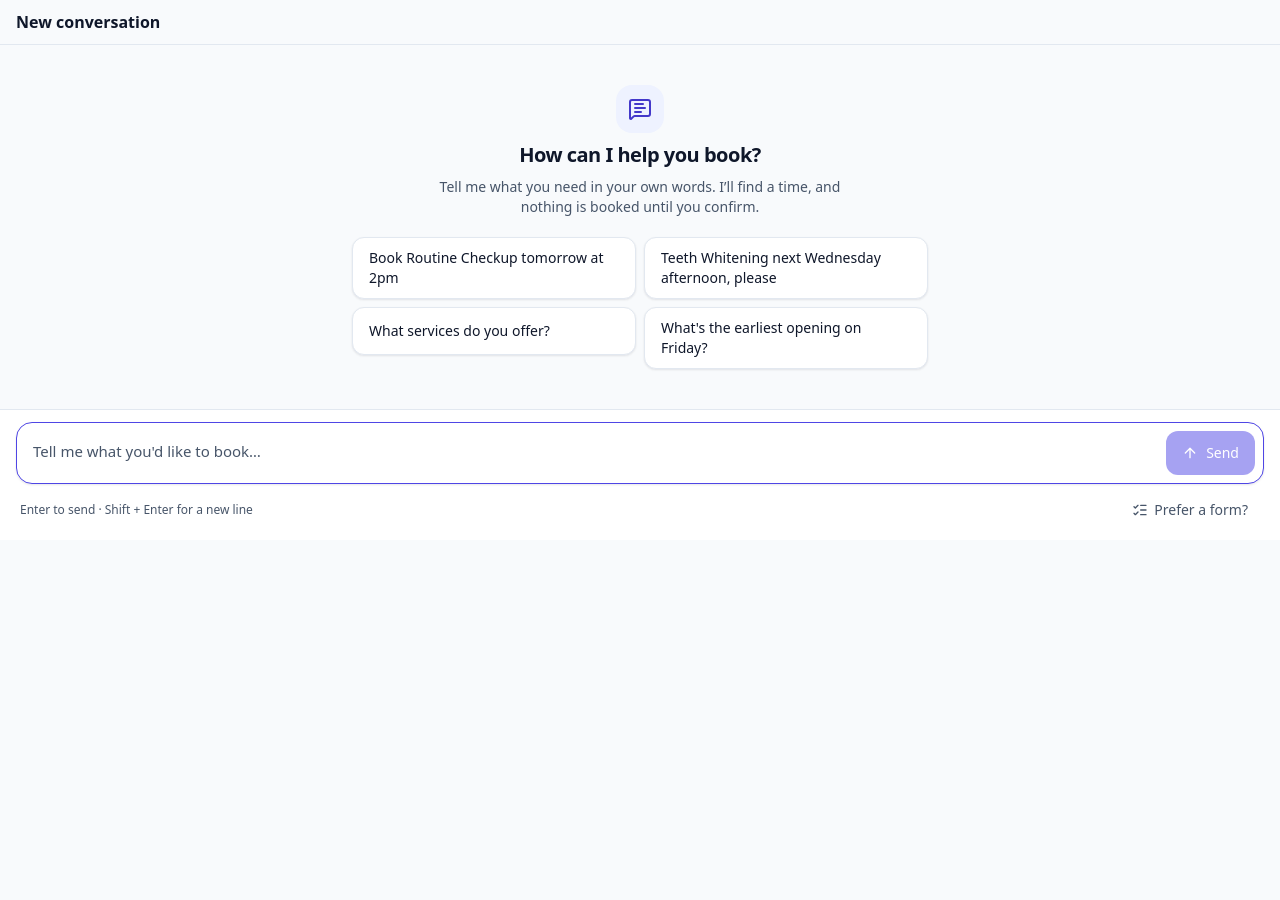
Test: the form in a brand-new conversation (real controller) › keeps the form, with the field error, when the server rejects a field
Click the button "Prefer a form?": point(1190, 510) [1120, 492, 1260, 528]
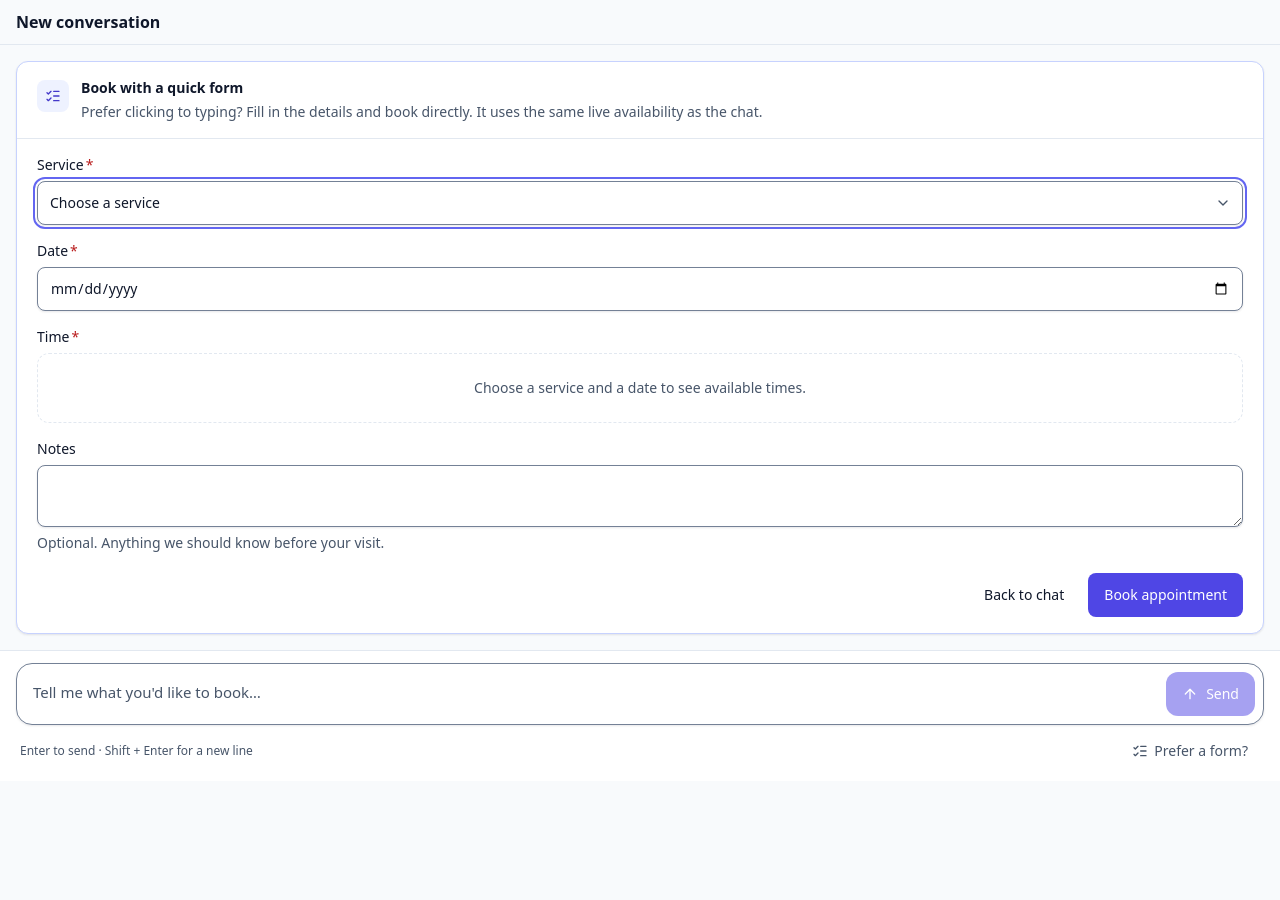
Select "Routine Checkup · 30 min · $80" in the dropdown labelled "Service*": point(640, 203) [37, 181, 1243, 225]
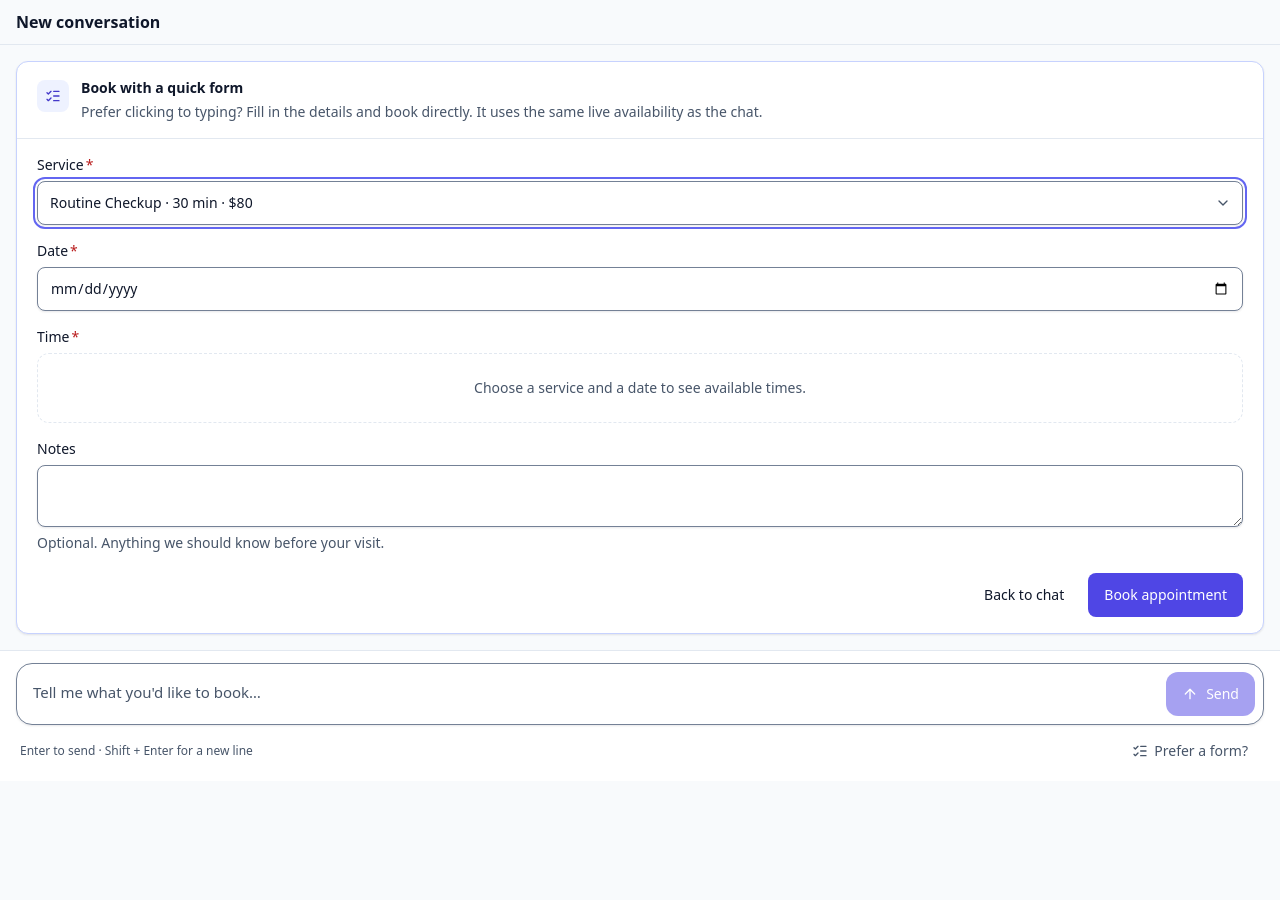
In the date field labelled "Date*": point(640, 289) [37, 267, 1243, 311], type "2026-10-05"
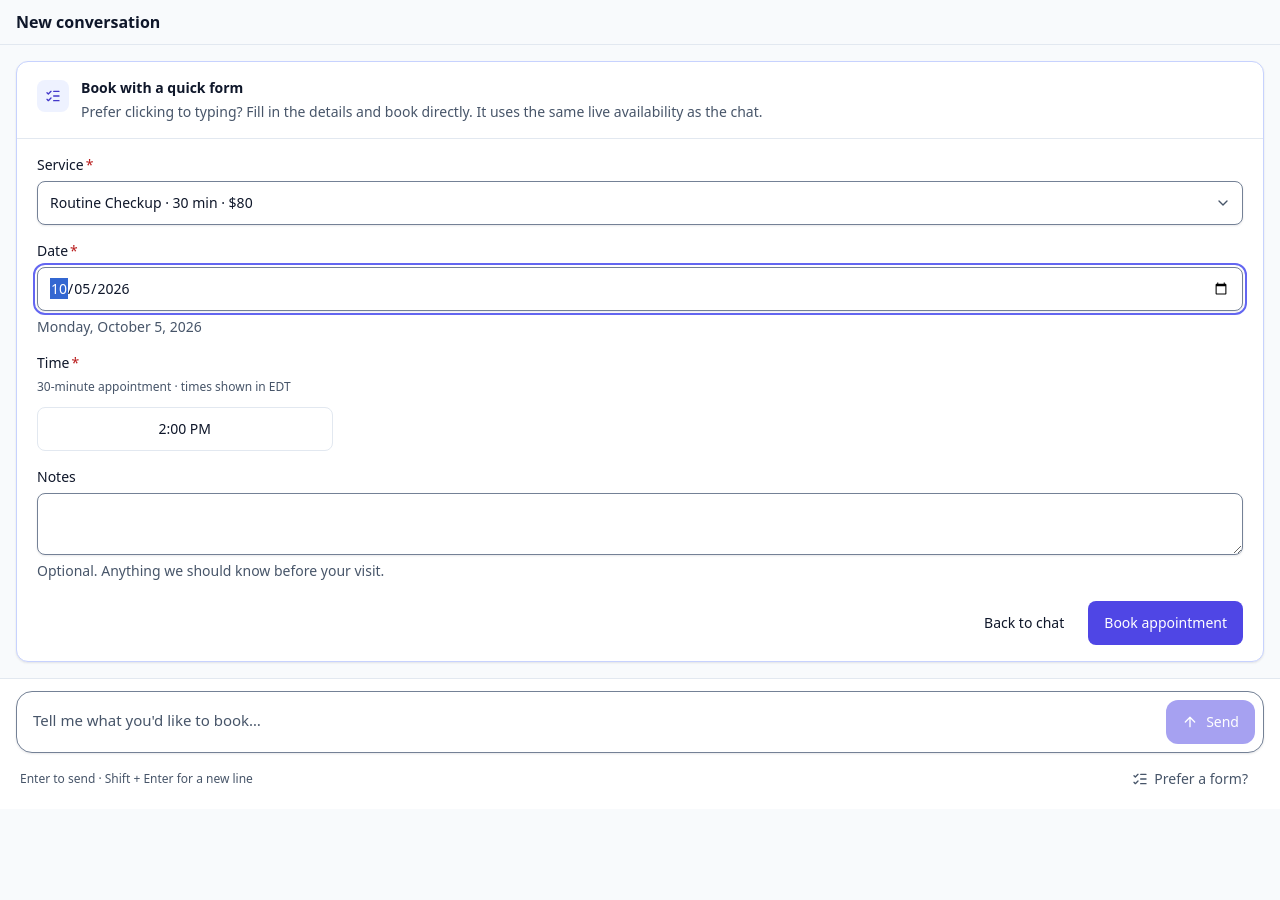
Click the radio button labelled "2:00 PM": point(185, 429) [37, 407, 332, 451]
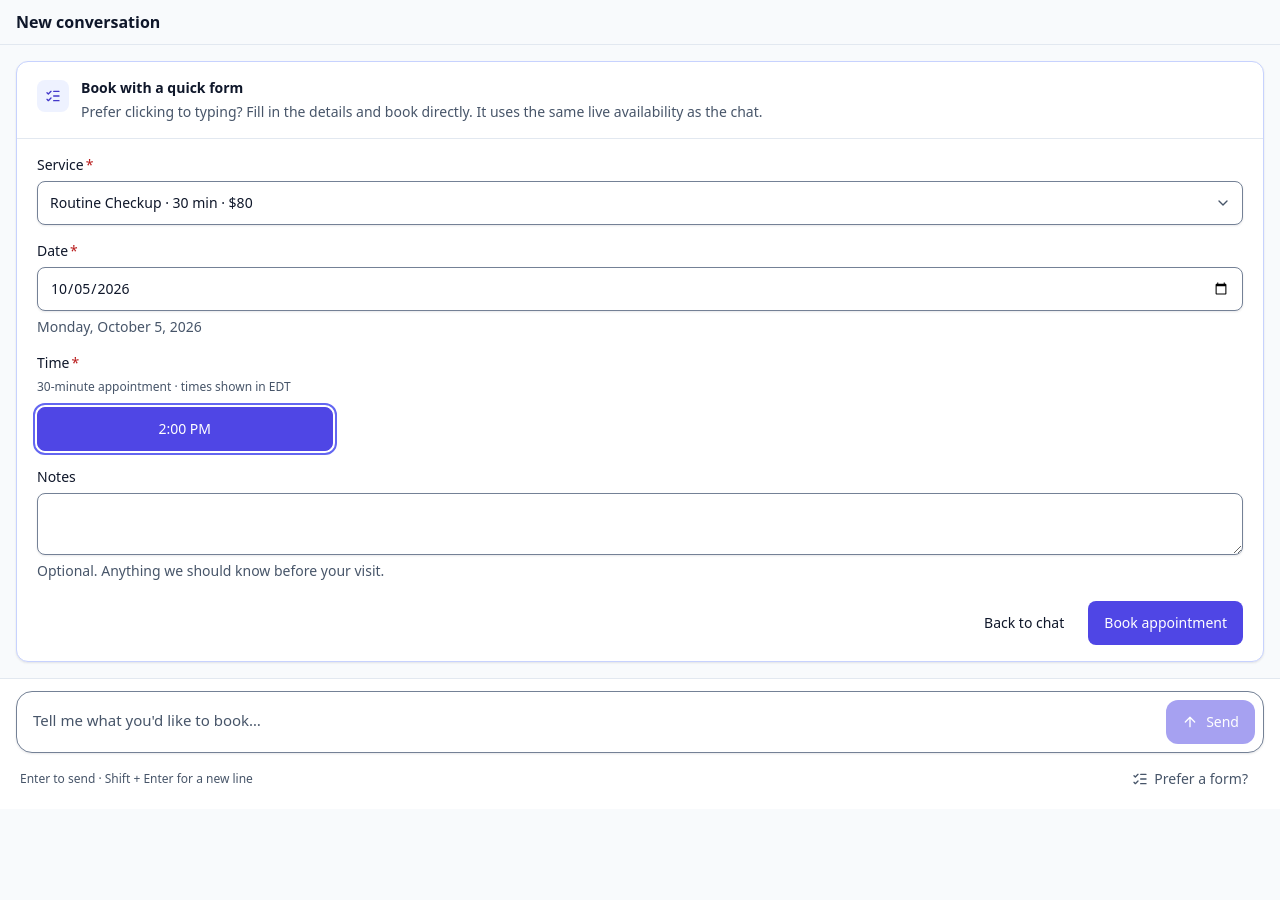
Click the button "Book appointment": point(1166, 623) [1088, 601, 1243, 645]
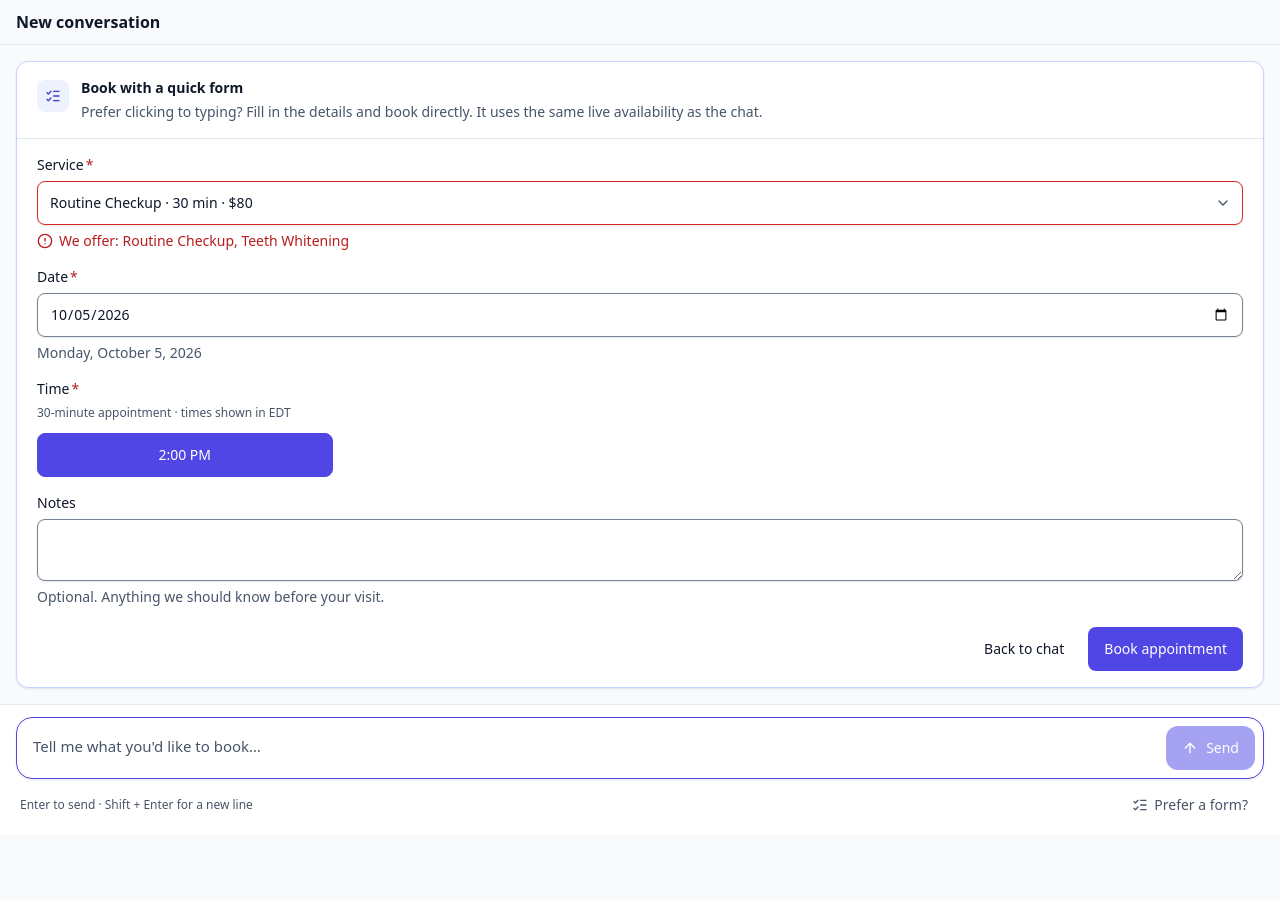
Check: the element "Book with a quick form" is shown
Check: the text "We offer: Routine Checkup, Teeth Whitening" is shown, box [37, 231, 349, 250]
